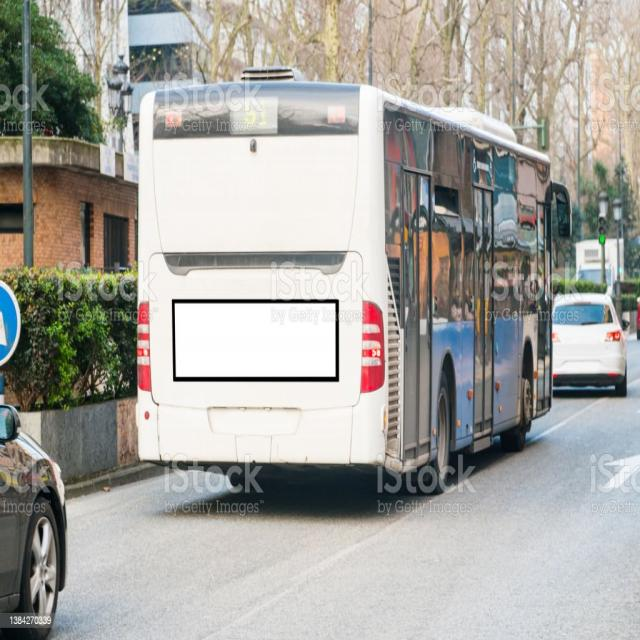bus: (130, 70, 576, 466)
car: (556, 280, 632, 402)
